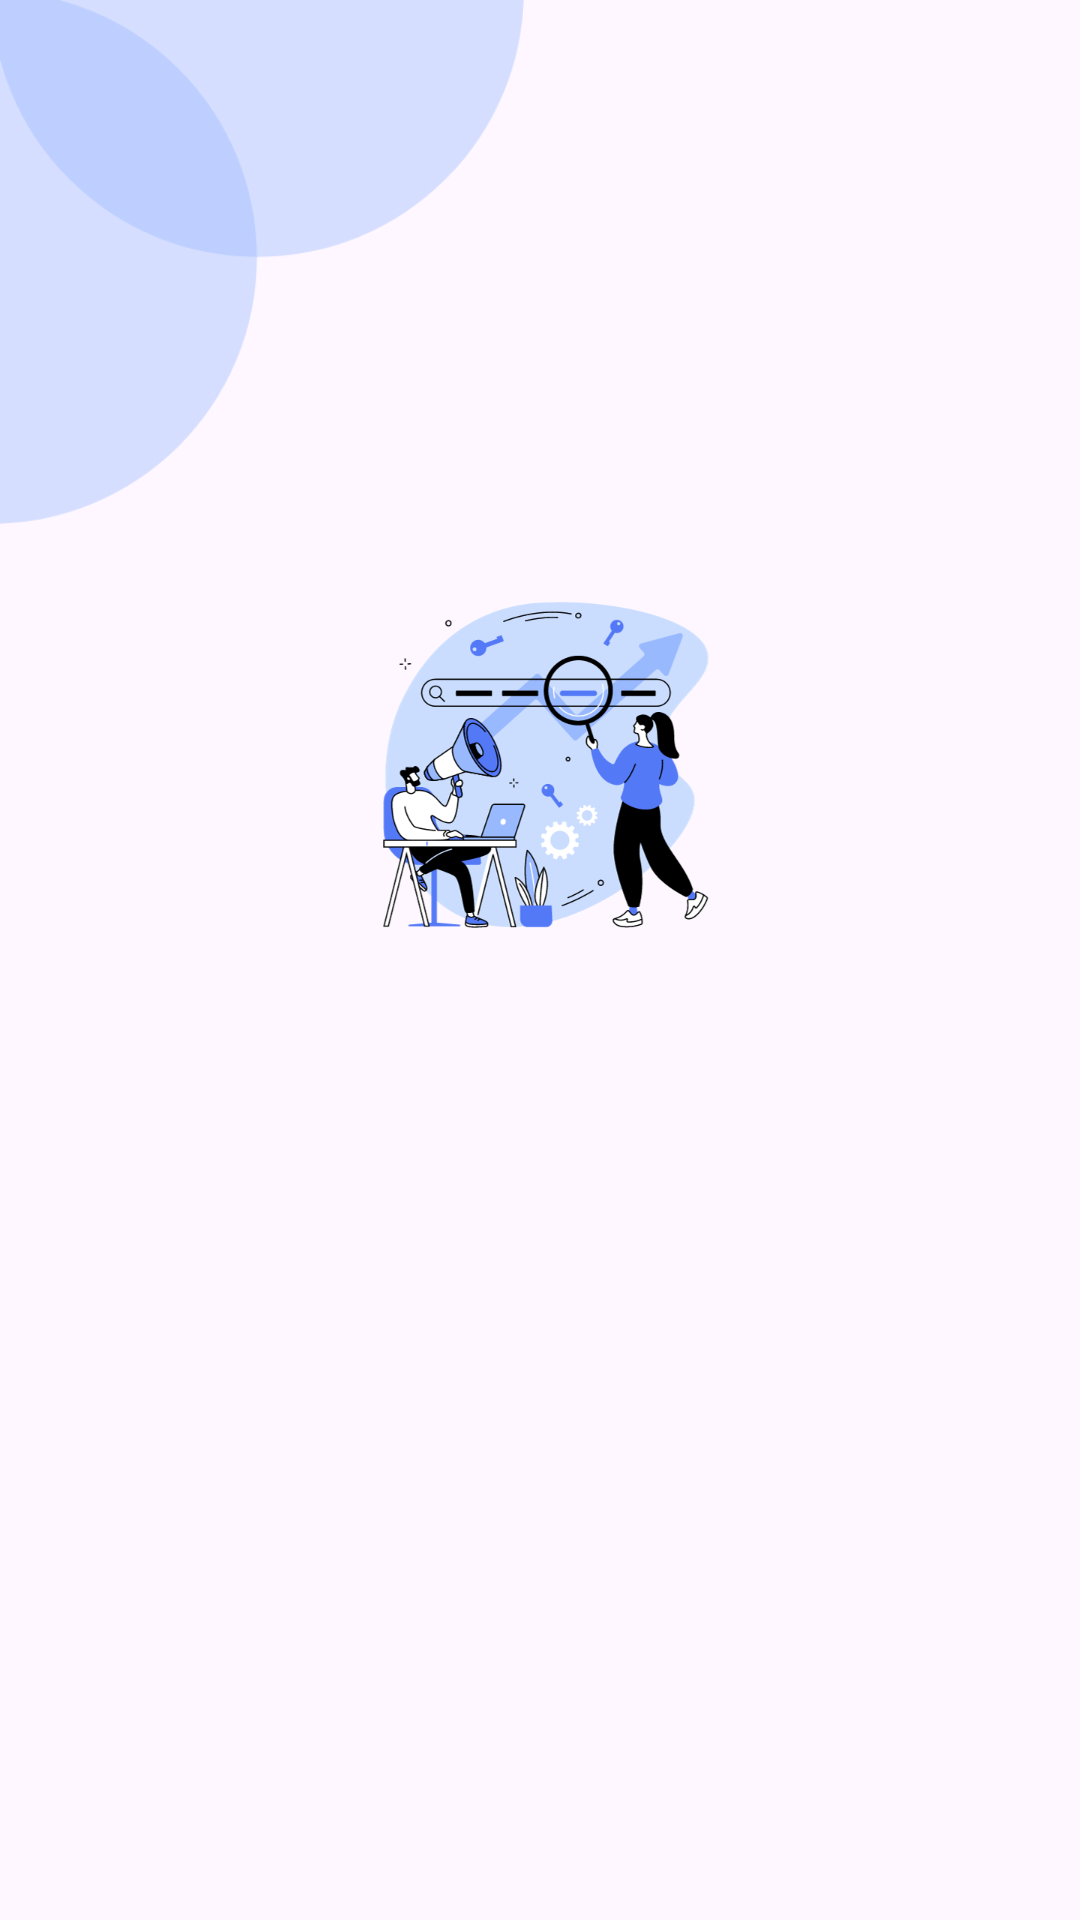

Icon click points for this 1080 × 1920 phone screenshot, format [x,y]:
Image on the registration page: [546,765]
